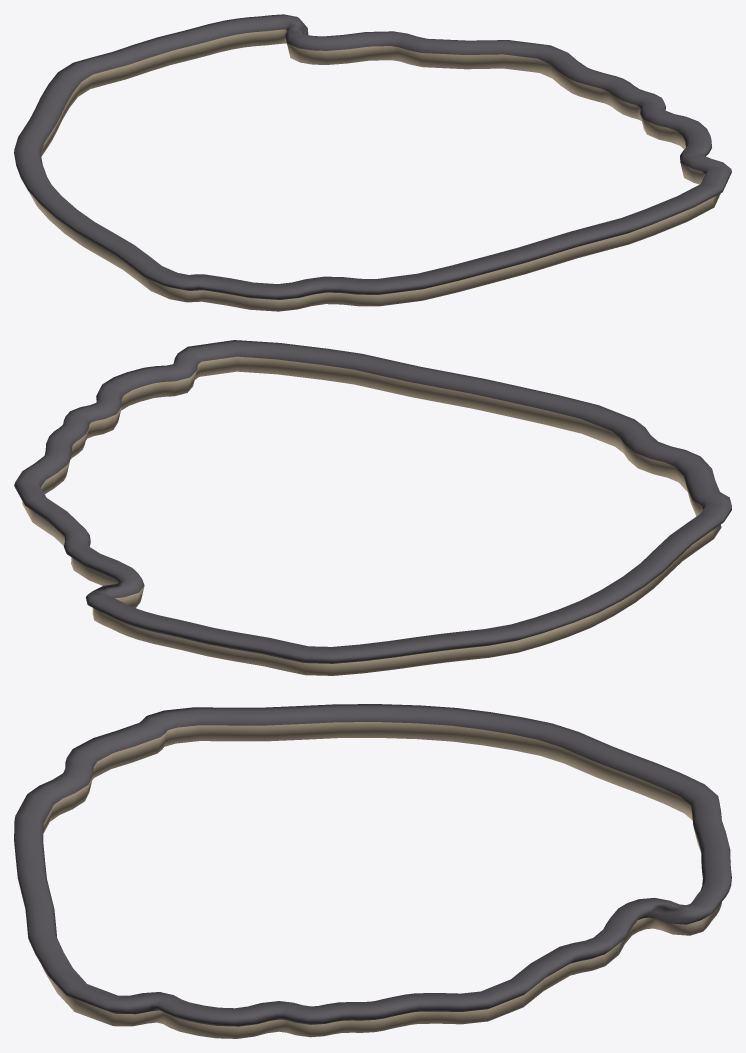
File: SM_SkyIsland_TussockBase.fbx
3 renders of one model, top to bottom at view 1: azimuth 30°, elevation 25°; view 2: azimuth 150°, elevation 25°; view 3: azimuth 270°, elevation 25°, orthographic. The views are drawn at different scales.
Parts seen in each view (by area): view 1: Tussock_Base; view 2: Tussock_Base; view 3: Tussock_Base.
Boxes of the visible parts, x1,y1,x2,y2 form: Tussock_Base: (14,14,731,311); Tussock_Base: (14,340,731,675); Tussock_Base: (14,704,731,1038).
Bounding box in the file's own units: 817 × 29.24 × 785.
